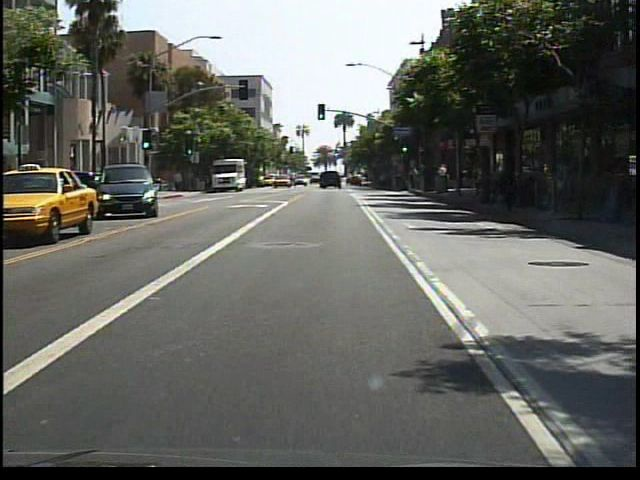person: (174, 166, 188, 193)
